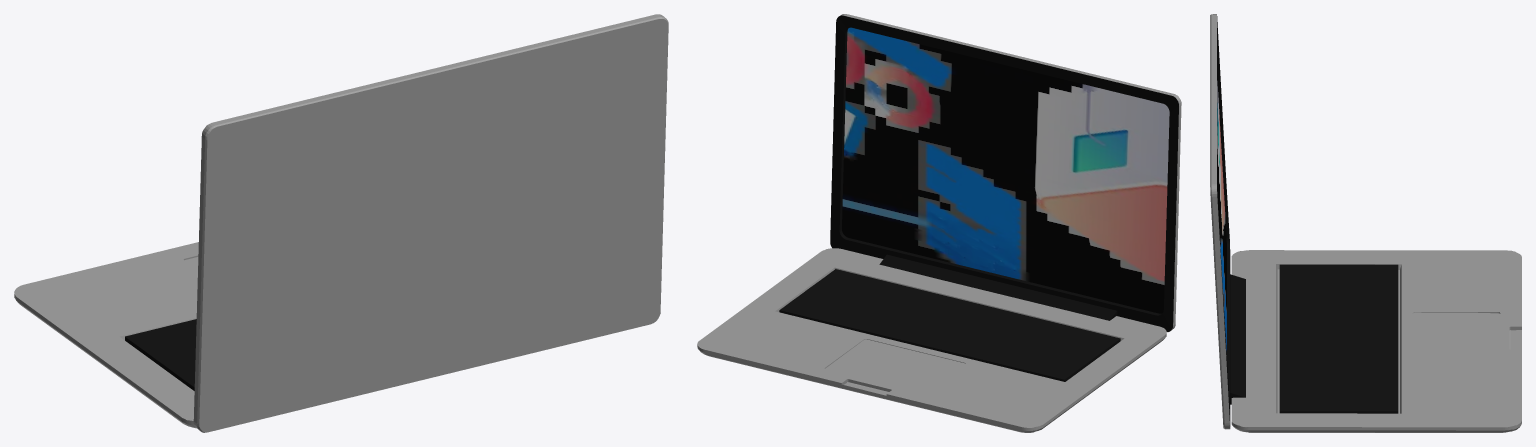
The model's file is modelDraco-transformed.glb.
3 views of the same model, side by side, from view 1: azimuth 30°, elevation 25°; view 2: azimuth 150°, elevation 25°; view 3: azimuth 270°, elevation 25° (orthographic). The views are drawn at different scales.
Visible parts, largest first — view 1: Cube.013; view 2: Cube.013; view 3: Cube.013.
Boxes of the visible parts, x1,y1,x2,y2 form: Cube.013: (14, 14, 668, 432); Cube.013: (697, 14, 1181, 432); Cube.013: (1210, 14, 1521, 432).
Bounding box in the file's own units: 0.1752 × 0.1147 × 0.1305.
5 materials, 1 textured.
